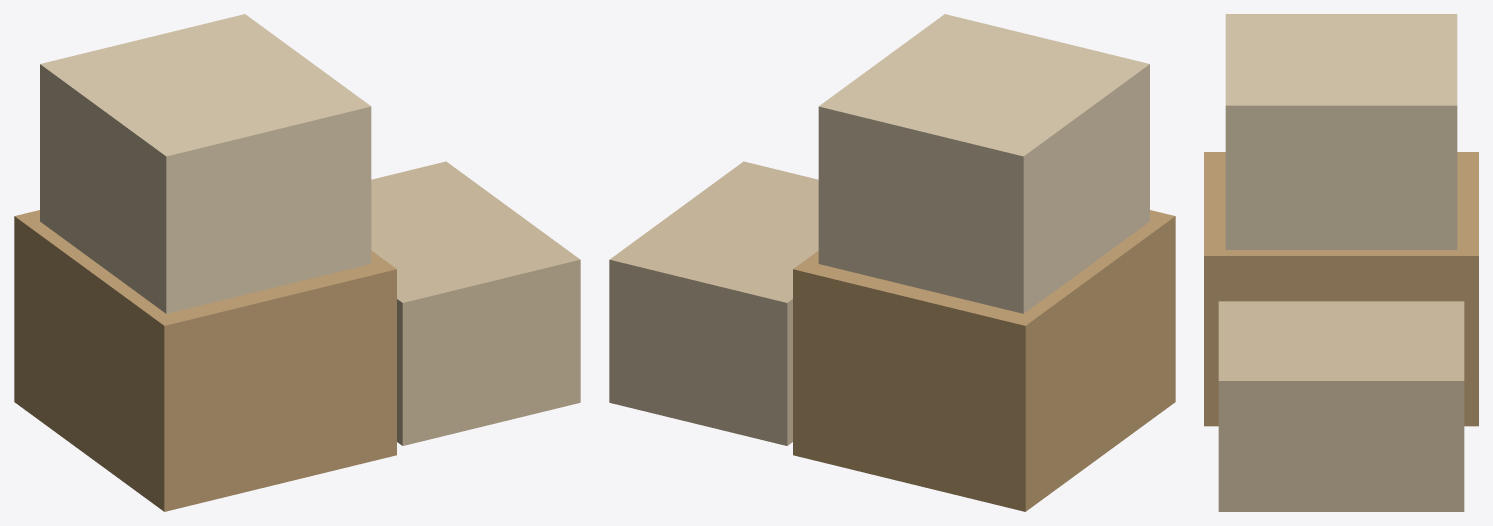
The model's file is caixas_empilhadas.glb.
The picture shows the model from 3 angles, left to right: view 1: azimuth 30°, elevation 25°; view 2: azimuth 150°, elevation 25°; view 3: azimuth 270°, elevation 25°; orthographic projection. The views are drawn at different scales.
Visible parts, largest first — view 1: caixas_empilhadas; view 2: caixas_empilhadas; view 3: caixas_empilhadas.
Boxes of the visible parts, x1,y1,x2,y2 form: caixas_empilhadas: (14,14,580,511); caixas_empilhadas: (609,14,1175,511); caixas_empilhadas: (1204,14,1478,511).
Size of the model in its own units: 0.62 by 0.48 by 0.38.
